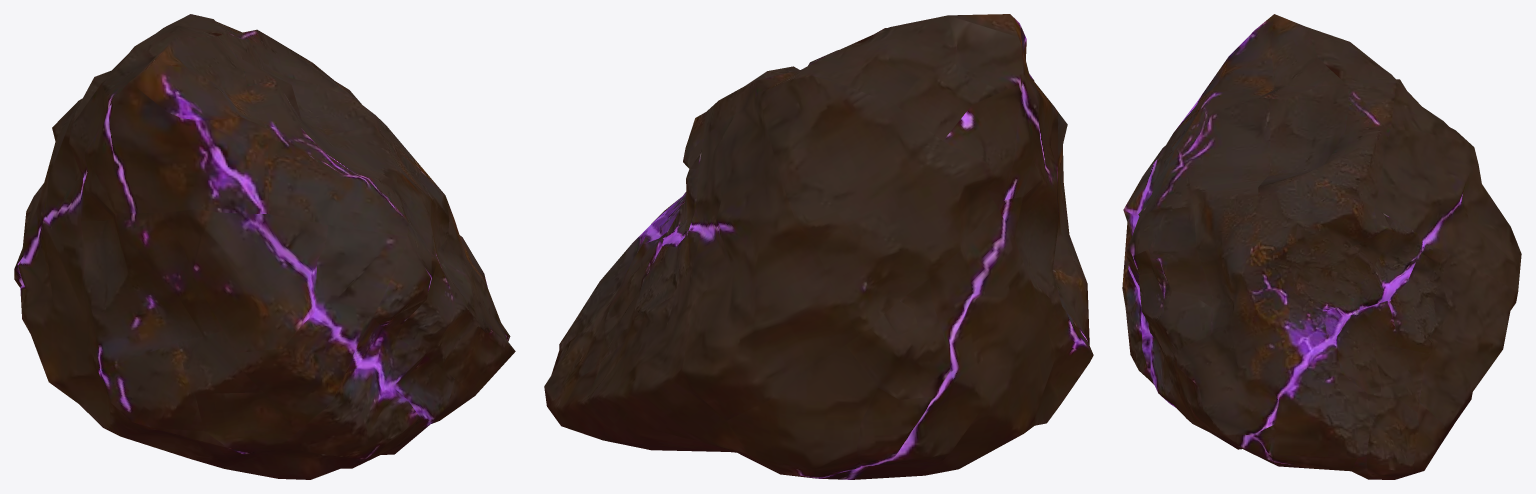
Rendered from swarm.glb.
3 renders of one model, left to right at view 1: azimuth 30°, elevation 25°; view 2: azimuth 150°, elevation 25°; view 3: azimuth 270°, elevation 25°, orthographic. The views are drawn at different scales.
Visible parts, largest first — view 1: node_a7b85540-55f3-4247-a4ff-cff303ea4854; view 2: node_a7b85540-55f3-4247-a4ff-cff303ea4854; view 3: node_a7b85540-55f3-4247-a4ff-cff303ea4854.
Part boxes in pixels (<box>): node_a7b85540-55f3-4247-a4ff-cff303ea4854: <box>14,14,515,479</box>; node_a7b85540-55f3-4247-a4ff-cff303ea4854: <box>544,14,1093,479</box>; node_a7b85540-55f3-4247-a4ff-cff303ea4854: <box>1122,14,1521,479</box>.
Size of the model in its own units: 0.6078 by 0.5669 by 0.5942.
Materials: 1 (1 with a texture image).
